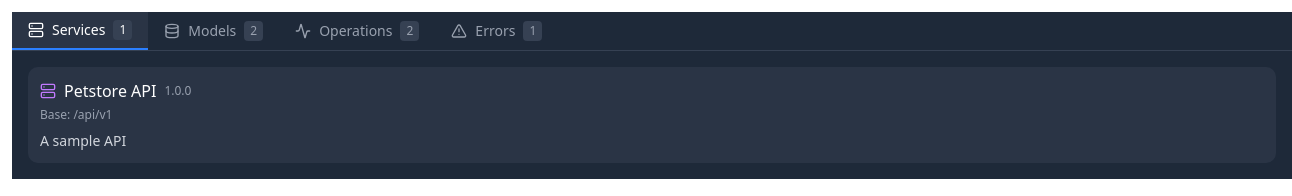
Test: PreviewPane › Errors Display › should display error codes and names
The width and height of the screenshot is (1292, 196).
# Click Errors tab
Click the tab "Errors 1": [497, 31] box [435, 12, 558, 50]
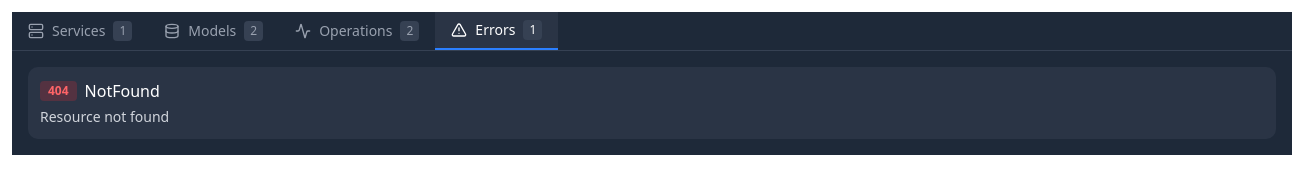
Now the text "404" is shown, box [40, 81, 77, 101]
Now the text "NotFound" is shown, box [85, 79, 160, 103]
